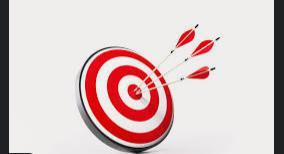target_red: (77, 45, 174, 153)
